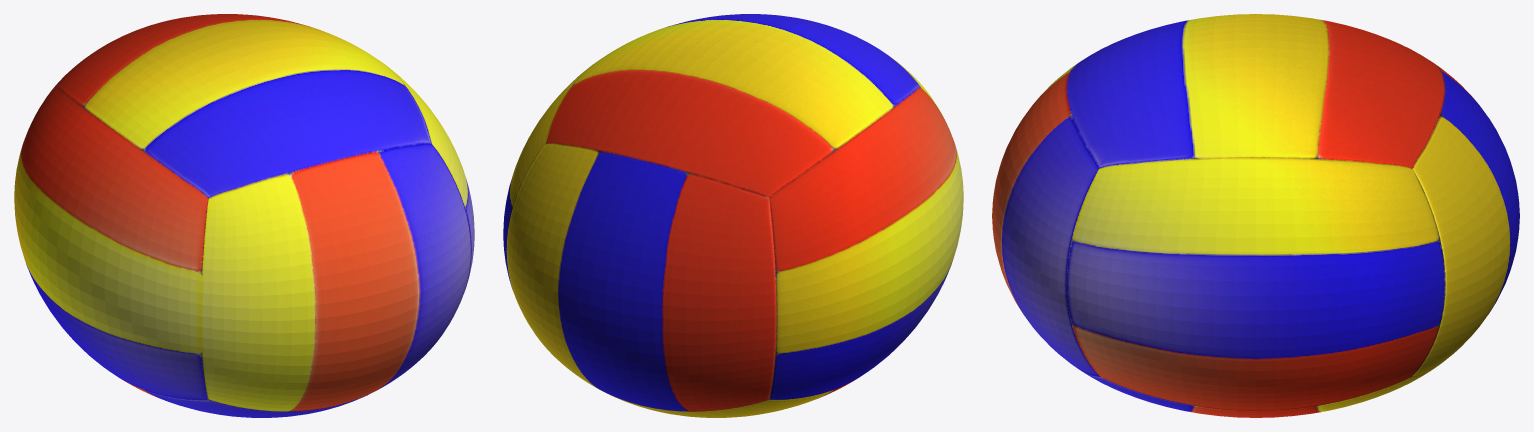
File: bola.obj
3 renders of one model, left to right at view 1: azimuth 30°, elevation 25°; view 2: azimuth 150°, elevation 25°; view 3: azimuth 270°, elevation 25°, orthographic. The views are drawn at different scales.
Visible parts, largest first — view 1: bola; view 2: bola; view 3: bola.
Boxes of the visible parts, left/top/right/bottom form: bola: left=14, top=14, right=474, bottom=417; bola: left=503, top=14, right=963, bottom=417; bola: left=992, top=14, right=1519, bottom=417.
Bounding box in the file's own units: 0.4772 × 0.4136 × 0.5616.
